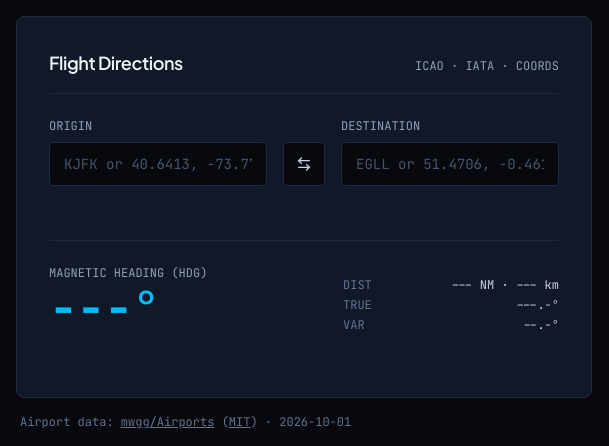
Test case: App › invalid location input › does not mark an error while typing after leaving a valid field
Type "48.2, 14" into the field labelled "ORIGIN" at [158, 164], box [49, 142, 267, 186]
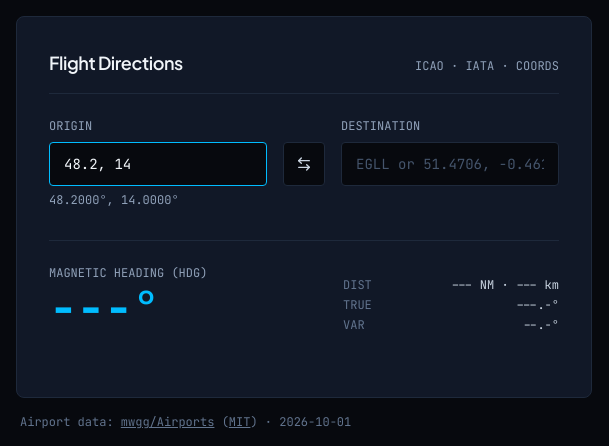
Press Tab
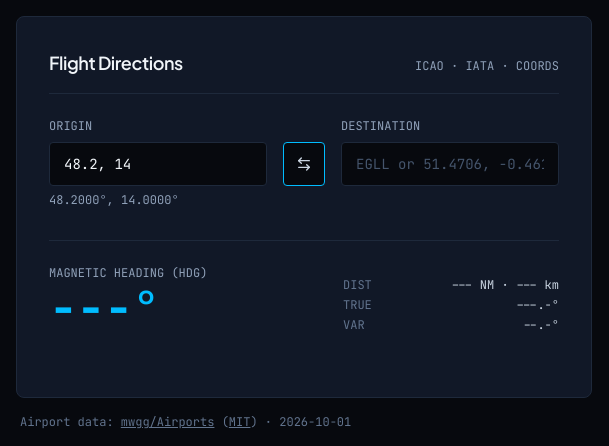
Type "x" into the field labelled "ORIGIN" at [158, 164], box [49, 142, 267, 186]
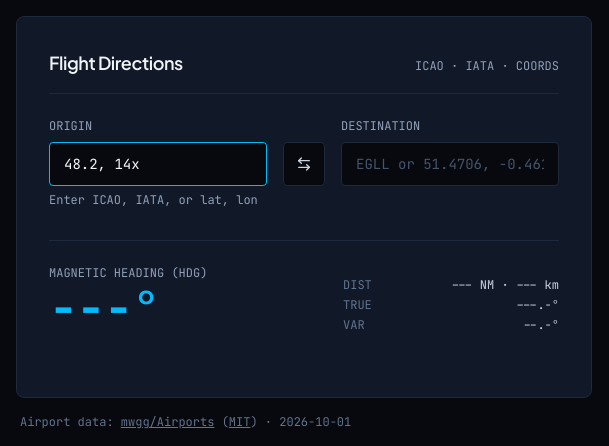
expect the text "Enter ICAO, IATA, or lat, lon" is shown: met, box [49, 192, 267, 208]
